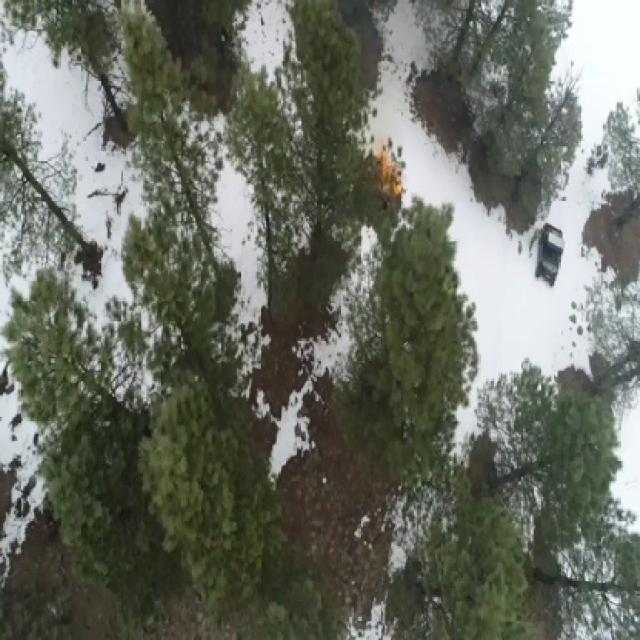Fire: (374, 143, 403, 199)
